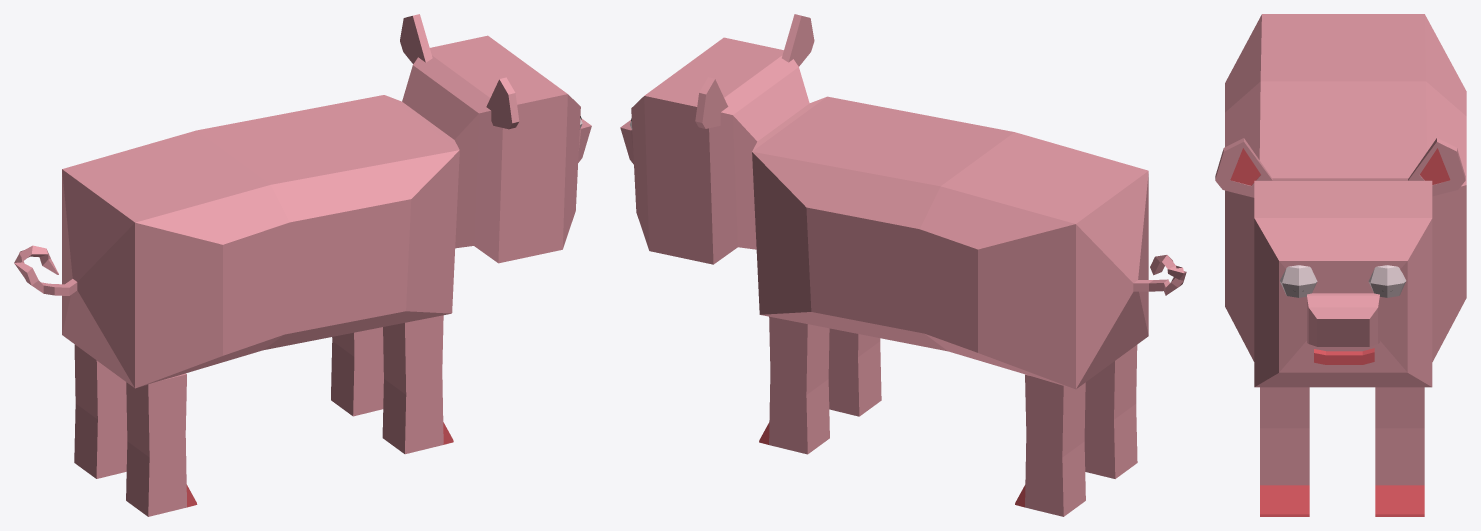
File: pig2.fbx
3 views of the same model, side by side, from view 1: azimuth 30°, elevation 25°; view 2: azimuth 150°, elevation 25°; view 3: azimuth 270°, elevation 25° (orthographic). The views are drawn at different scales.
Visible parts, largest first — view 1: Cube.001; view 2: Cube.001; view 3: Cube.001.
Boxes of the visible parts, box(x1,y1,x2,y2) form: Cube.001: box(14, 14, 591, 516); Cube.001: box(620, 14, 1186, 516); Cube.001: box(1215, 14, 1466, 516).
Bounding box in the file's own units: 654 × 401 × 229.
